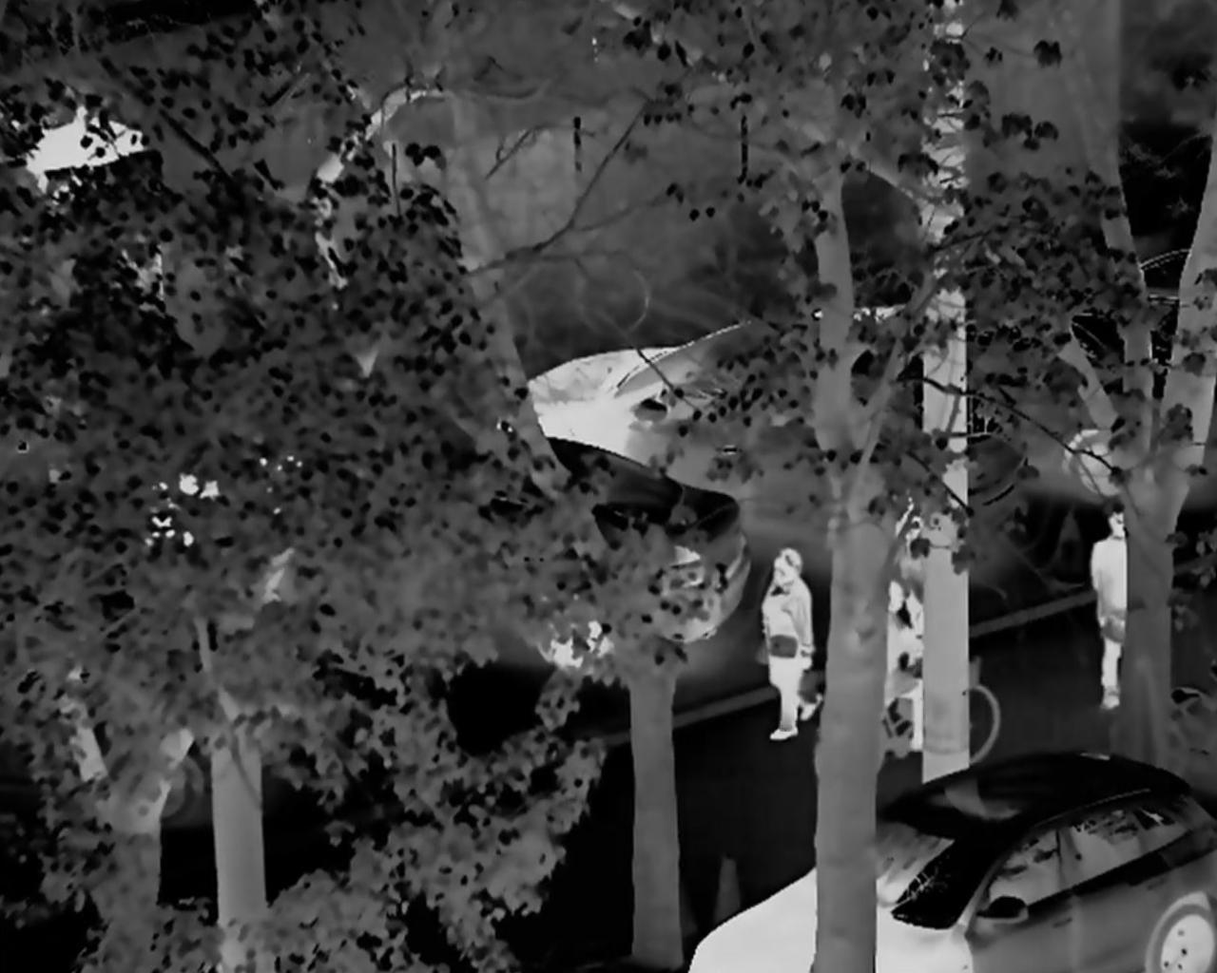person: (1074, 513, 1146, 717), (751, 545, 821, 742), (880, 564, 935, 771)
